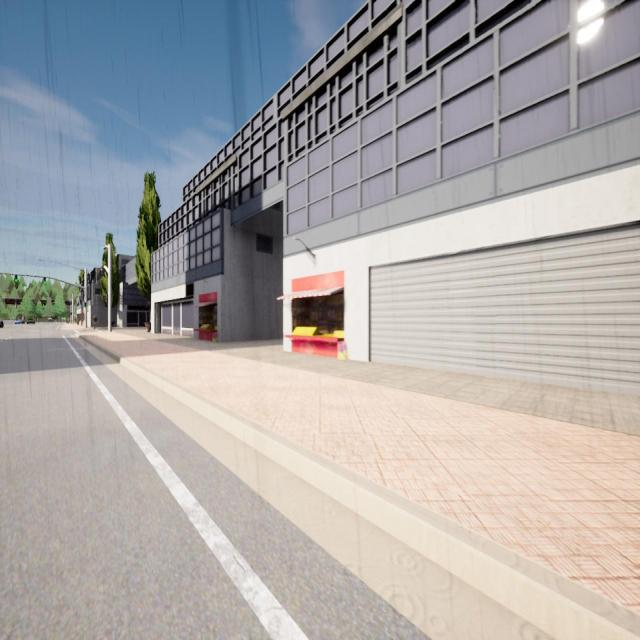Pedestrian: (93, 314, 97, 330)
Vehicle: (26, 318, 36, 324), (0, 320, 4, 328), (14, 319, 20, 324), (48, 317, 52, 322), (21, 319, 25, 324)
traffic_light: (105, 294, 108, 303), (15, 275, 18, 282), (84, 302, 87, 309), (44, 277, 46, 285), (98, 269, 100, 277), (101, 267, 103, 274)
